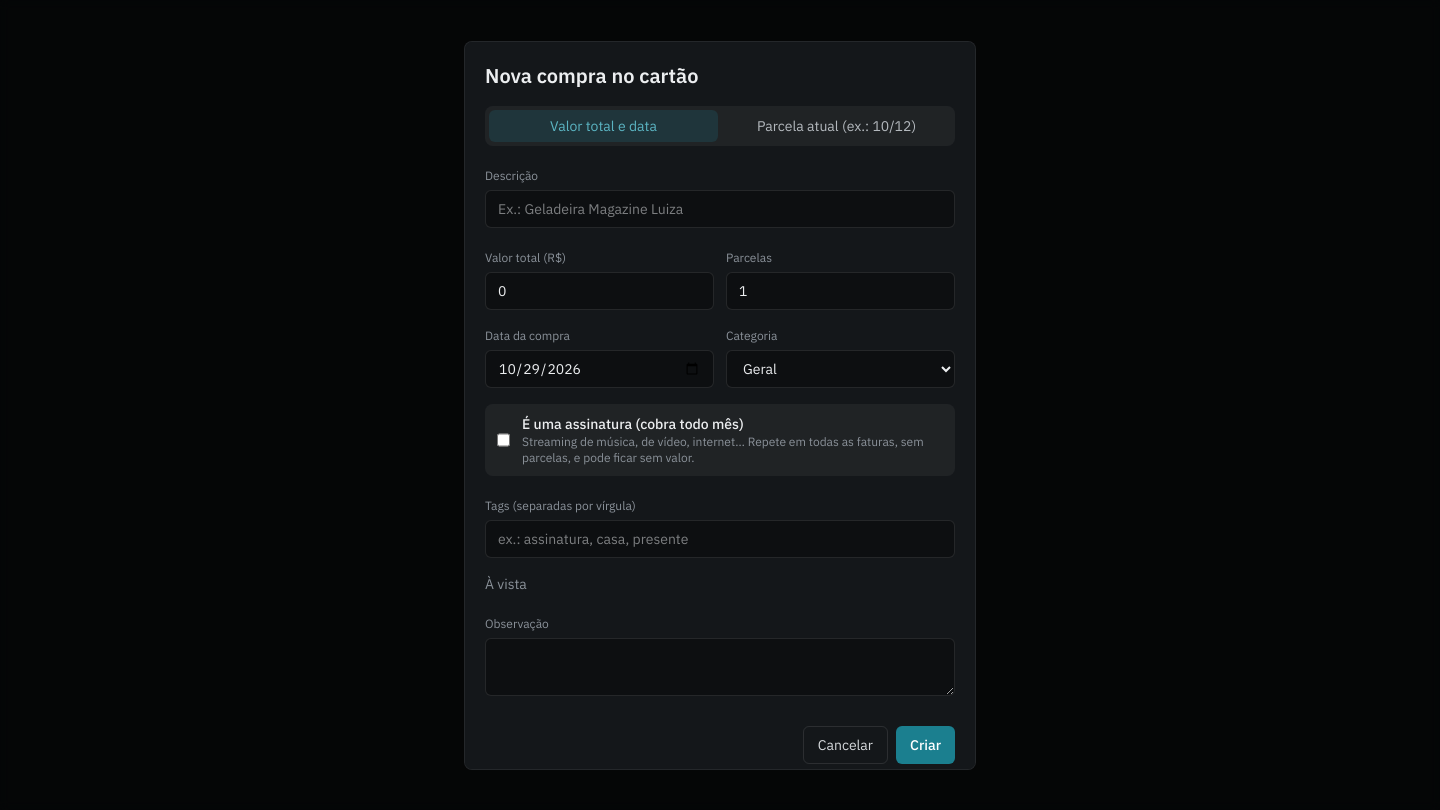
Test case: ModalCompra › mostra o valor das parcelas com os centavos na última
In the number field labelled "Valor total (R$)": (600, 290) [485, 272, 714, 310], type "100"
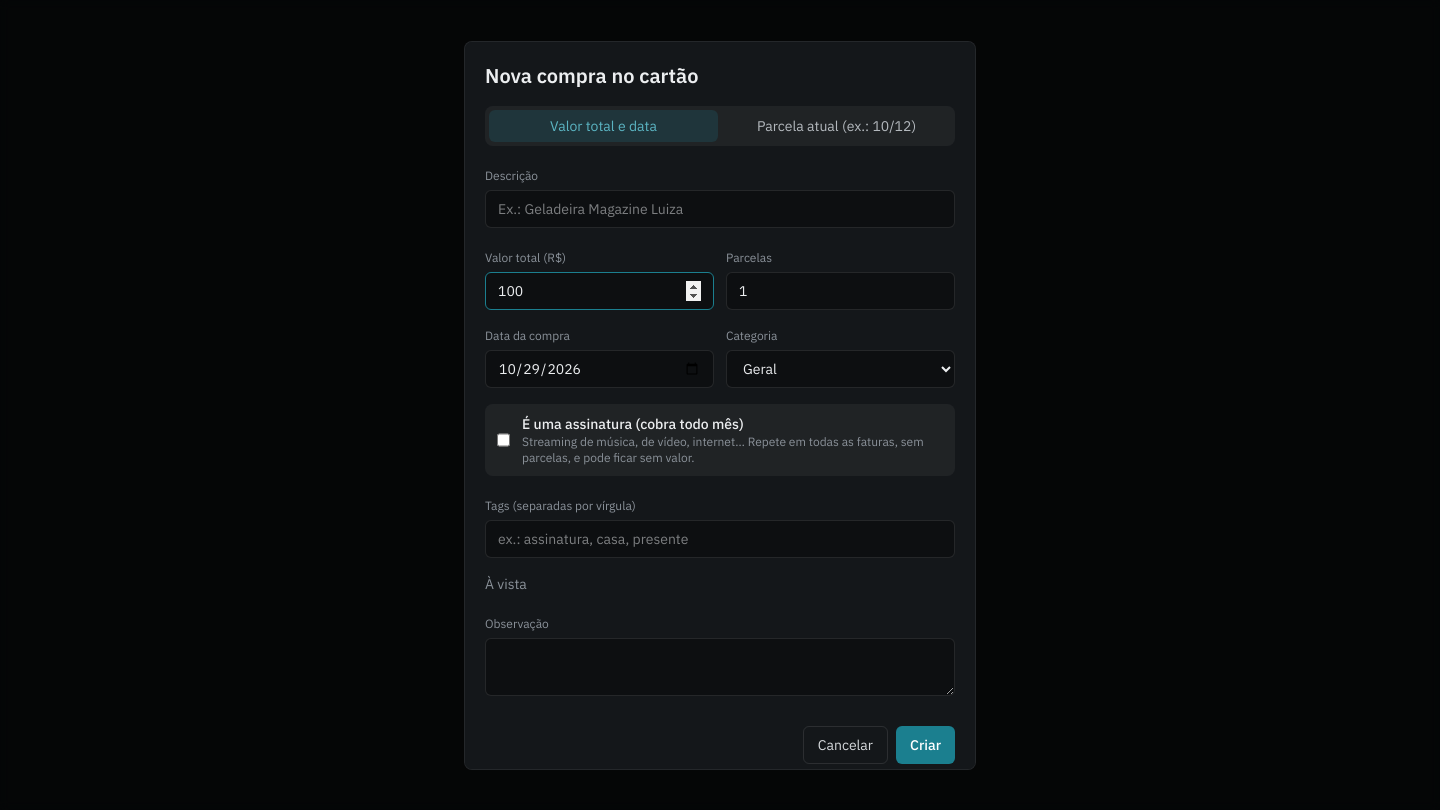
Replace the text in the number field labelled "Parcelas" with "3": (840, 290) [726, 272, 955, 310]
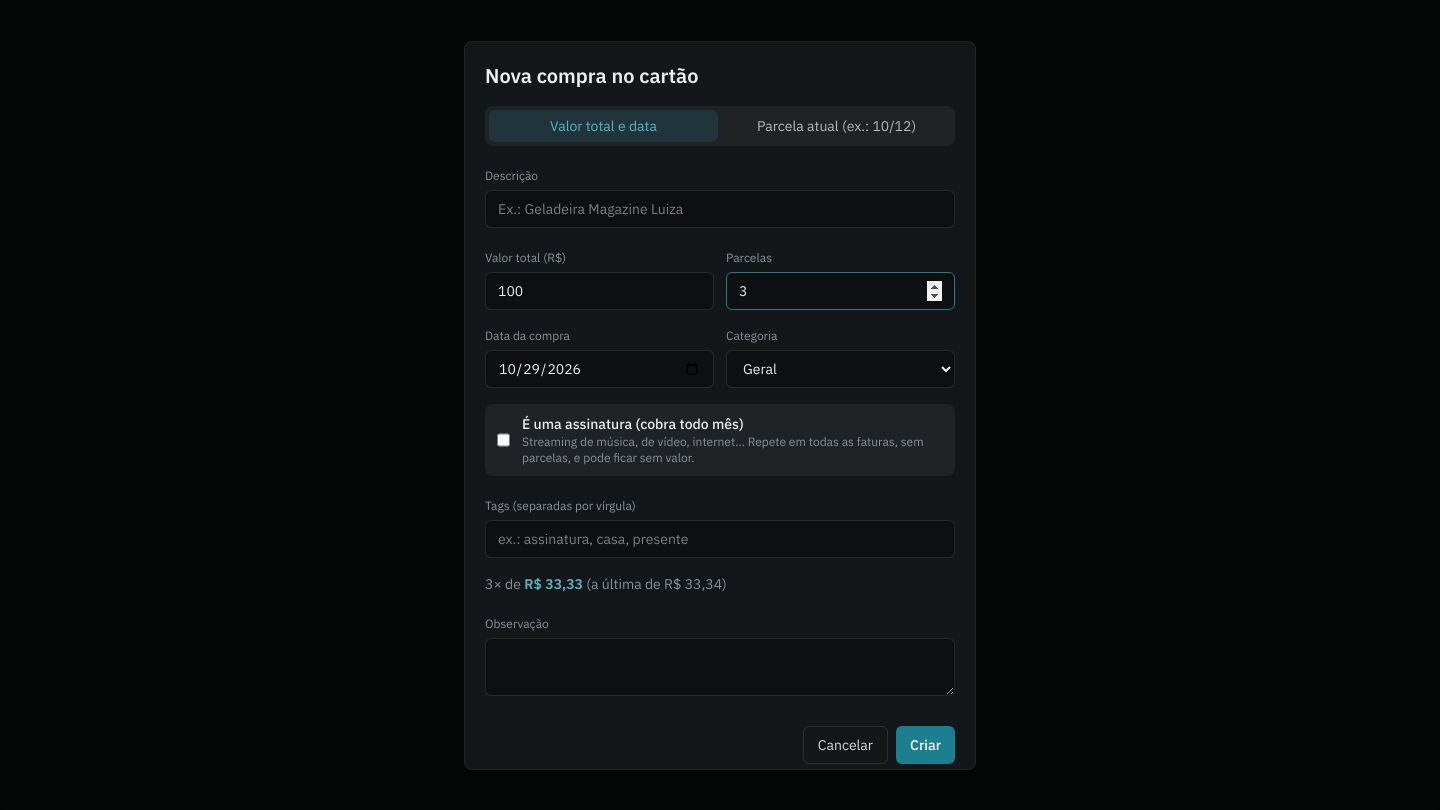
Check: the text "3× de R$ 33,33 (a última de R$ 33,34)" is shown, box [485, 574, 727, 592]
